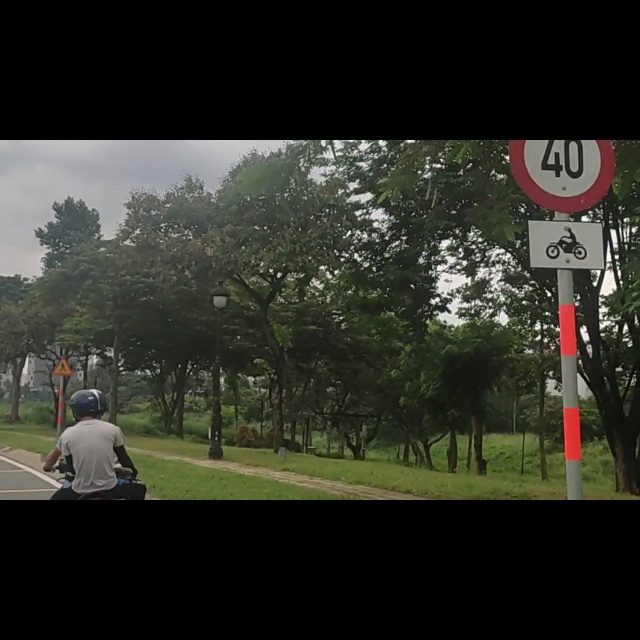bien_nguy_hiem: (507, 1, 615, 129), (52, 382, 74, 421)
